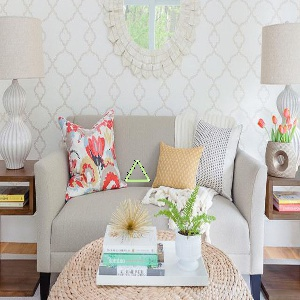triangle: (124, 158, 153, 185)
